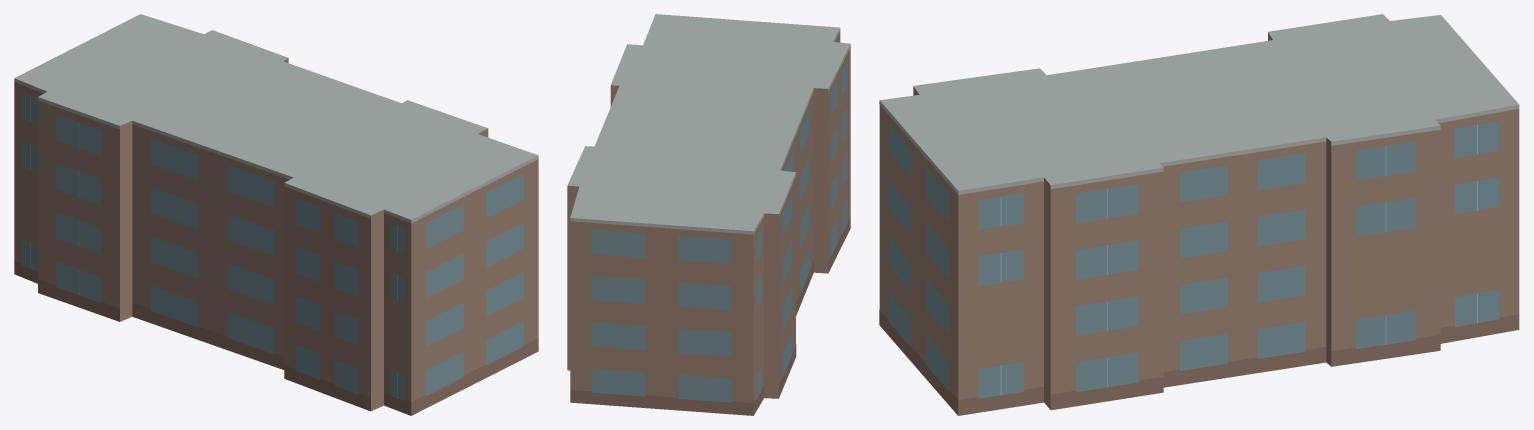
The model's file is survey-upis-32965692.glb.
3 views of the same model, side by side, from view 1: azimuth 30°, elevation 25°; view 2: azimuth 150°, elevation 25°; view 3: azimuth 270°, elevation 25° (orthographic). The views are drawn at different scales.
Parts seen in each view (by area): view 1: survey-upis-32965692.tmp; view 2: survey-upis-32965692.tmp; view 3: survey-upis-32965692.tmp.
Part boxes in pixels (<box>): survey-upis-32965692.tmp: <box>14,14,538,415</box>; survey-upis-32965692.tmp: <box>567,14,850,415</box>; survey-upis-32965692.tmp: <box>879,14,1519,415</box>.
Bounding box in the file's own units: 22.6 × 13.4 × 34.54.
